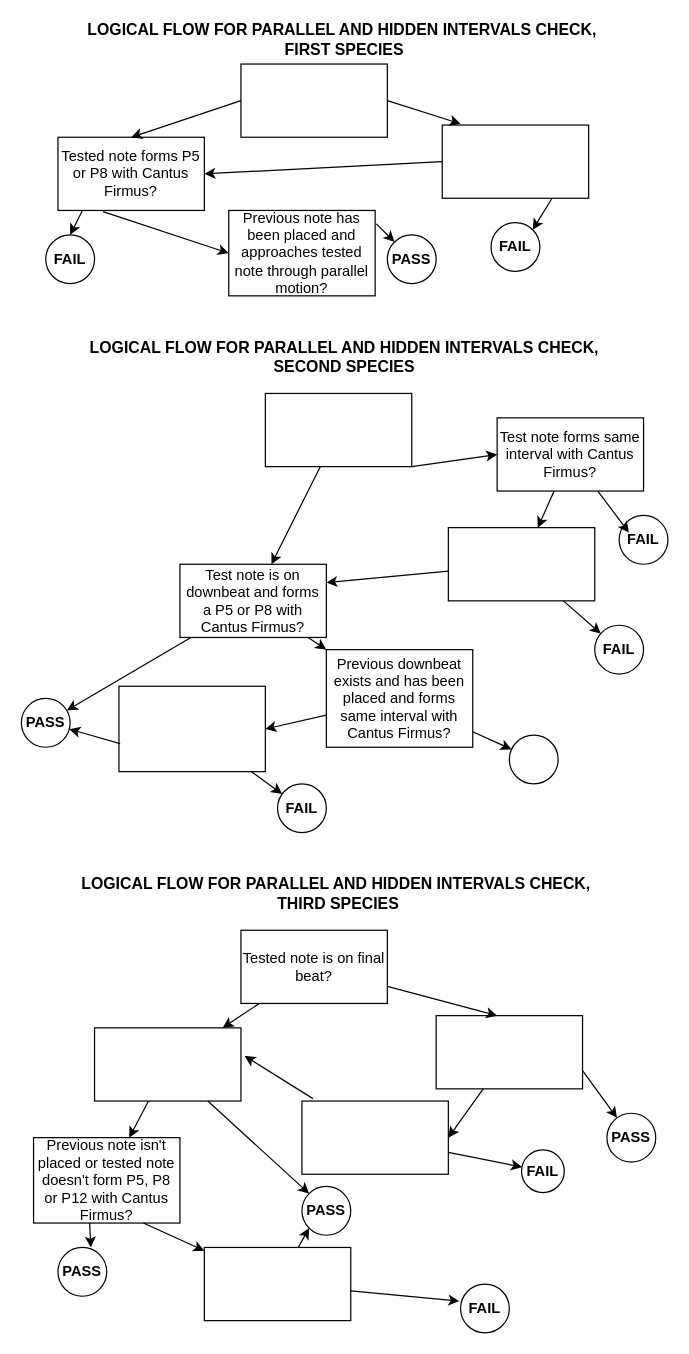
Image size: 689x1354. Some labels were removed from this diagram. Here are the shapes that lost their labels. From the top down, the box of each, then its label:
(240, 63, 387, 137): Next note has been placed and forms P5 or P8 with Cantus Firmus?
(441, 124, 589, 198): Test note approaches next measure through parallel motion?
(264, 392, 412, 467): Next downbeat has been placed and forms a P5 or P8 with Cantus Firmus?
(447, 526, 595, 601): Test not is on last beat and approaches next measure in parallel motion?
(118, 685, 265, 772): Previous note has been placed and approaches test note through parallel motion?
(508, 734, 558, 784): FAI L
(93, 1027, 241, 1101): Tested note is on first beat?
(435, 1014, 583, 1089): Next note isn't placed or doesn't form P5, P8 or P12 with Cantus Firmus?
(301, 1100, 448, 1174): Tested note approaches next measure through parallel motion?
(203, 1246, 351, 1321): Tested note not approached from previous note through parallel motion?
